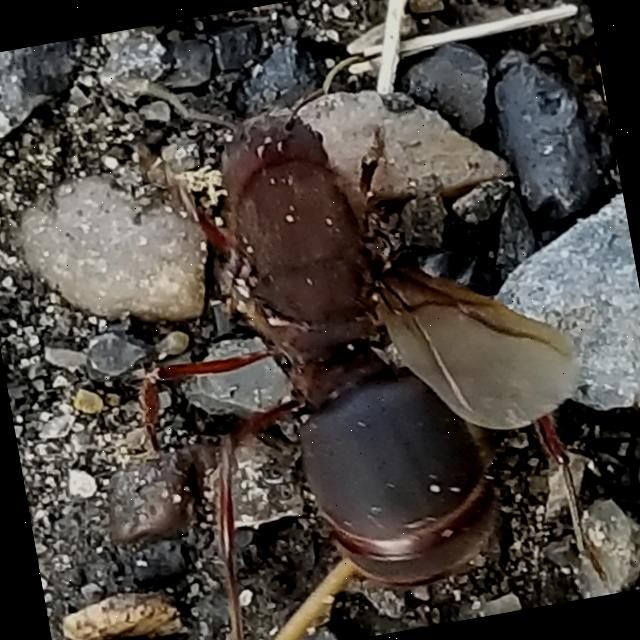Alive-Female-Alate: (80, 6, 619, 640)
